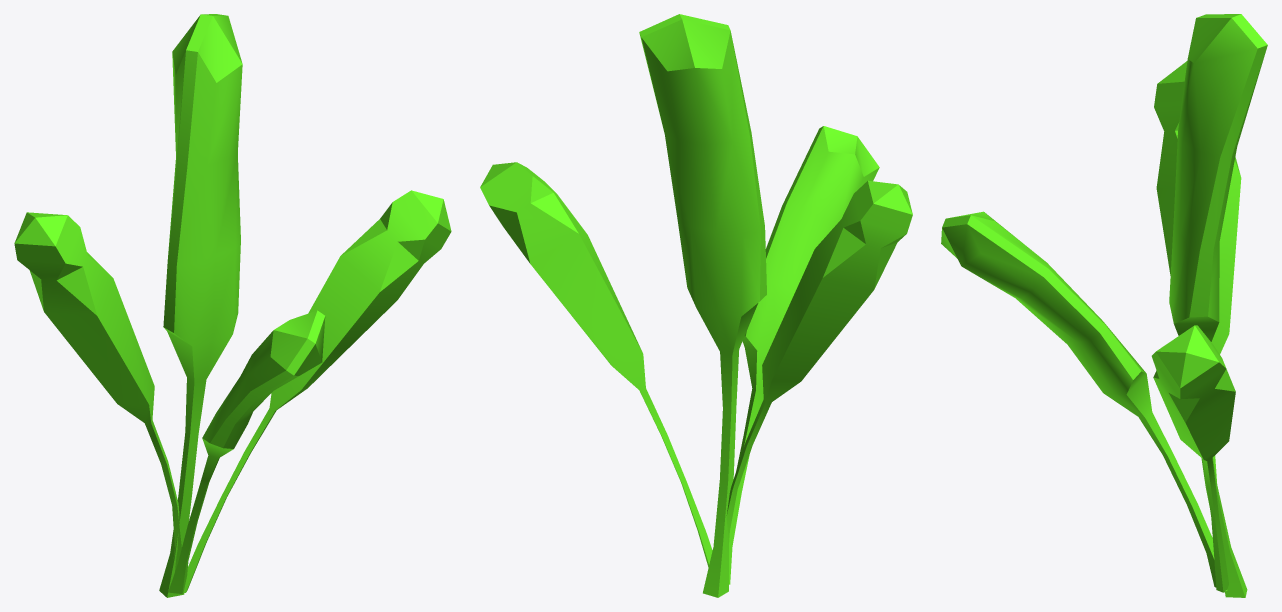
Rendered from SM_Flower_5.FBX.
The picture shows the model from 3 angles, left to right: view 1: azimuth 30°, elevation 25°; view 2: azimuth 150°, elevation 25°; view 3: azimuth 270°, elevation 25°; orthographic projection. The views are drawn at different scales.
Visible parts, largest first — view 1: 5; view 2: 5; view 3: 5.
Boxes of the visible parts, <box> form: 5: <box>14,14,451,597</box>; 5: <box>480,14,912,597</box>; 5: <box>941,14,1267,597</box>.
Bounding box in the file's own units: 6.64 × 8.38 × 4.17.
